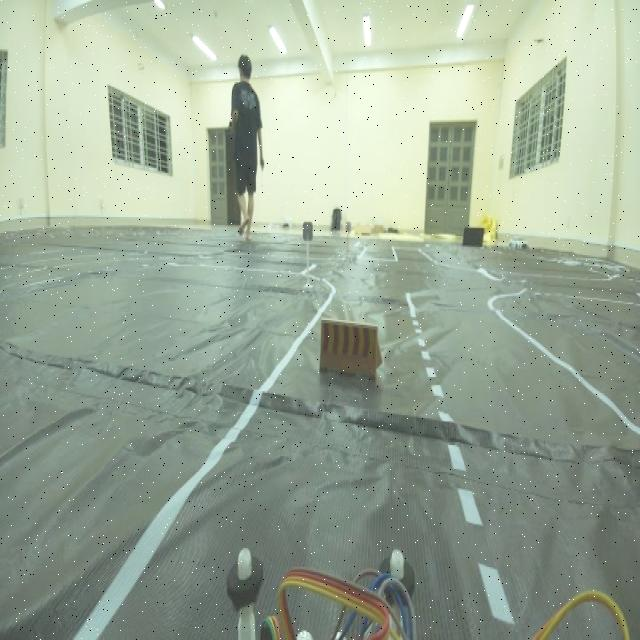roadblock: (316, 309, 388, 401)
